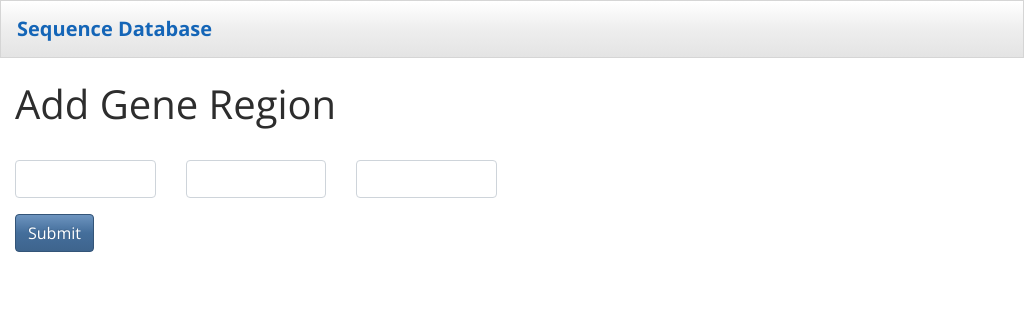
Test: Region edit page › Renders an error after form submit if one is returned from the back-end.
Note: Add a name.
Type "this-name-is-too-long" into the 1st field at (85, 179), box [15,160,156,198]
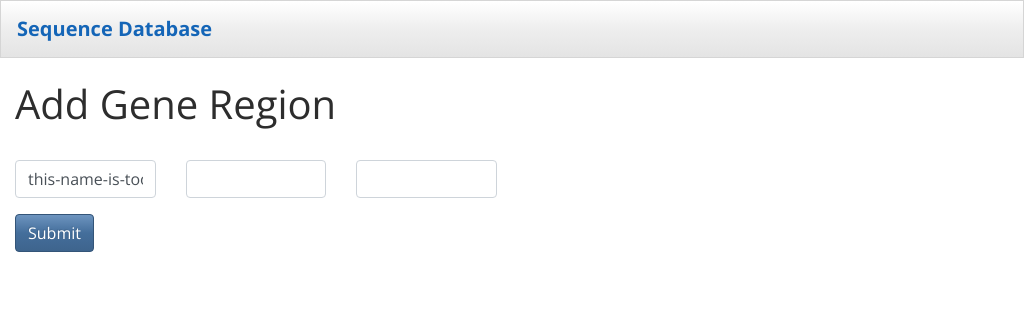
Note: Submit the form.
Submit the form, box [15,160,497,252]
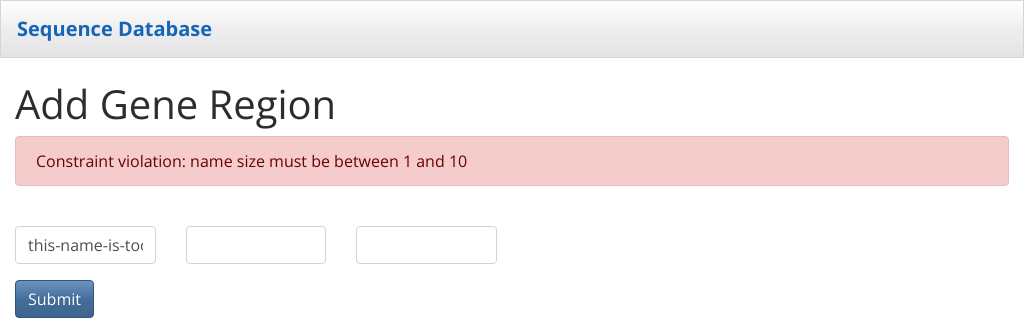
Now the text with class "alert-danger" reads "Constraint violation: name size must be between 1 and 10", box [36,150,467,172]
